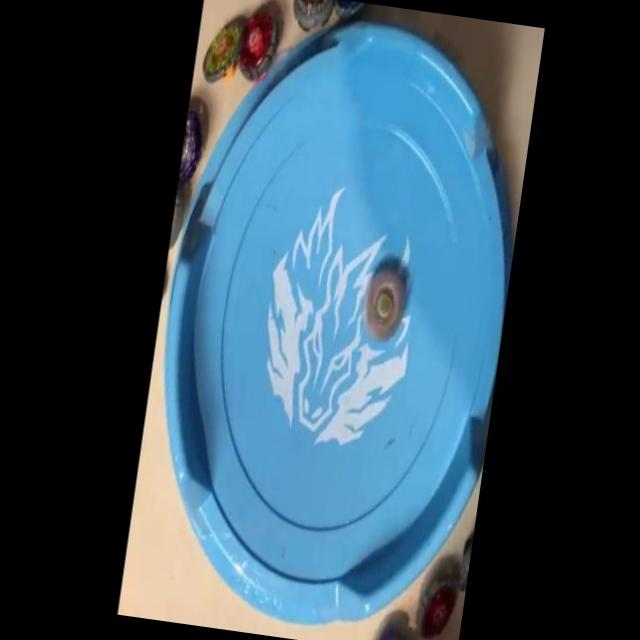Beyblade: (235, 5, 282, 84), (360, 268, 408, 342), (200, 14, 245, 87), (413, 575, 459, 640)
